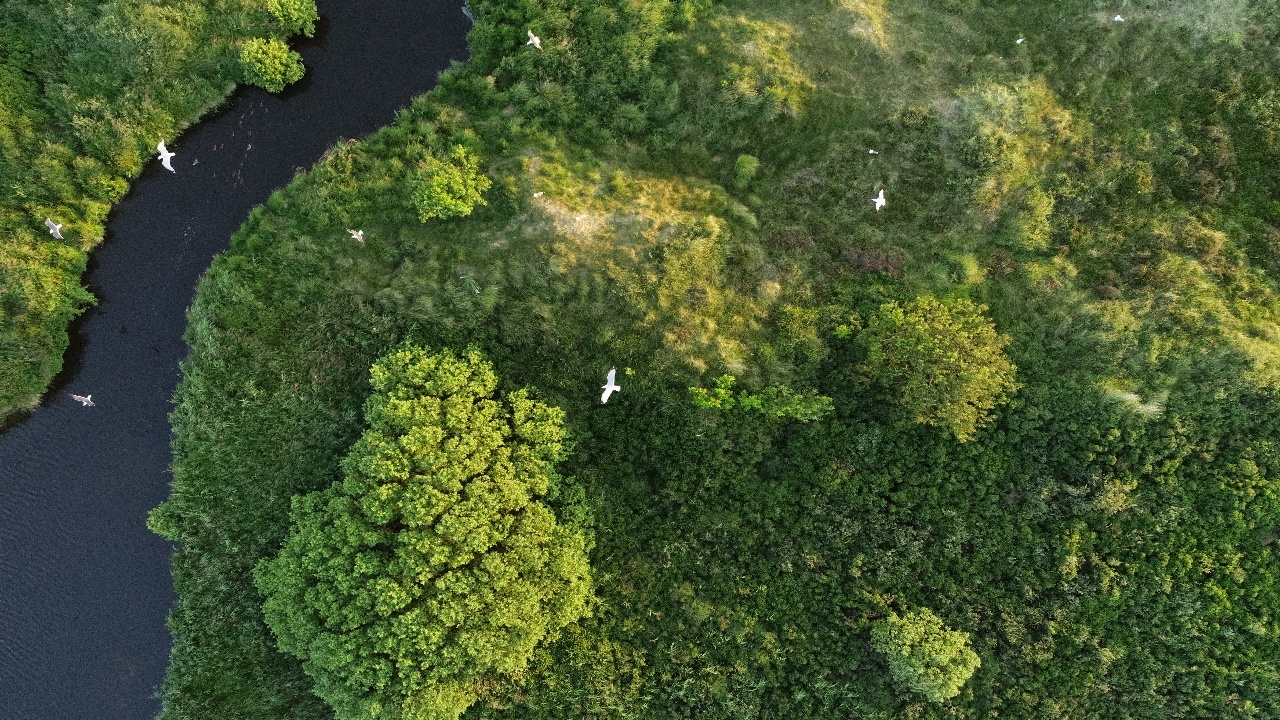Bird: (144, 132, 186, 178), (37, 207, 74, 248), (67, 379, 104, 420), (339, 215, 376, 256), (514, 16, 551, 57), (594, 362, 631, 403), (863, 183, 900, 224), (858, 137, 893, 169), (521, 177, 556, 209), (1001, 25, 1036, 57), (1097, 1, 1132, 32)
